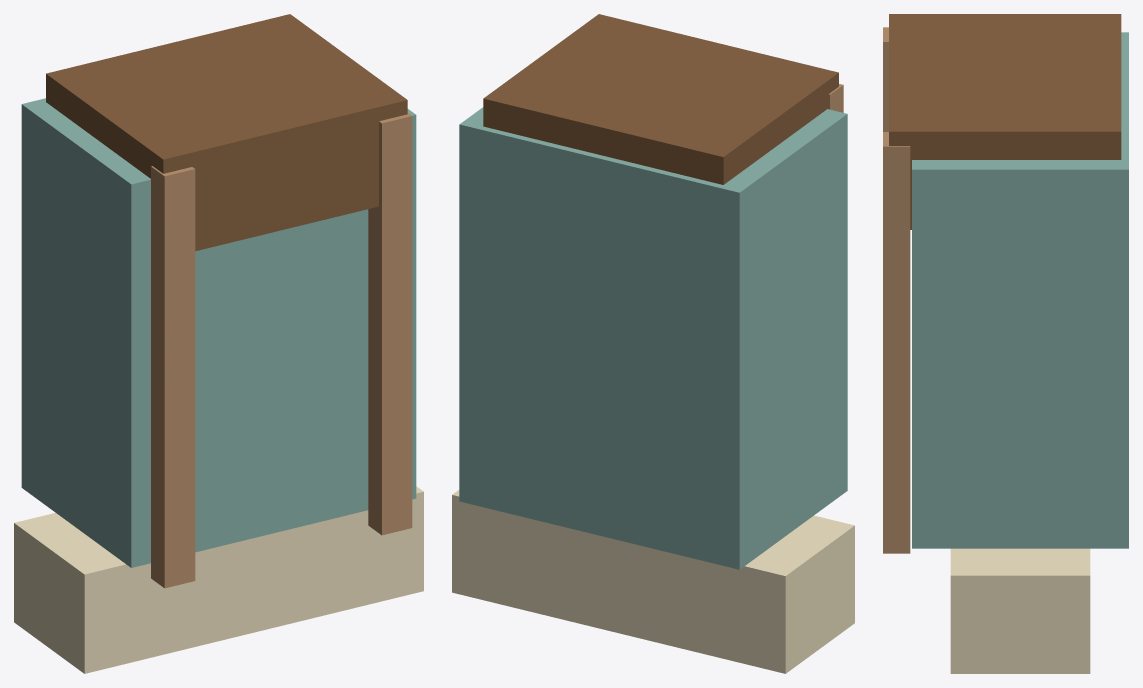
File: expeditionPack.glb
The picture shows the model from 3 angles, left to right: view 1: azimuth 30°, elevation 25°; view 2: azimuth 150°, elevation 25°; view 3: azimuth 270°, elevation 25°; orthographic projection.
Parts seen in each view (by area): view 1: PackBody, PackFlap, PackRoll, PackStrap, PackStrap.001; view 2: PackBody, PackRoll, PackFlap; view 3: PackBody, PackFlap, PackRoll, PackStrap.001, PackStrap.
Part boxes in pixels (x1=…): PackBody: x1=21, y1=98, x2=416, y2=567; PackFlap: x1=46, y1=14, x2=407, y2=251; PackRoll: x1=14, y1=486, x2=423, y2=673; PackStrap: x1=151, y1=166, x2=195, y2=588; PackStrap.001: x1=368, y1=113, x2=412, y2=535; PackBody: x1=459, y1=107, x2=847, y2=569; PackRoll: x1=452, y1=490, x2=854, y2=673; PackFlap: x1=483, y1=14, x2=838, y2=184; PackBody: x1=912, y1=32, x2=1128, y2=548; PackFlap: x1=889, y1=14, x2=1121, y2=229; PackRoll: x1=950, y1=548, x2=1090, y2=673; PackStrap.001: x1=883, y1=132, x2=910, y2=553; PackStrap: x1=883, y1=27, x2=888, y2=131.
Bounding box in the file's own units: 0.5 × 0.74 × 0.3175.
